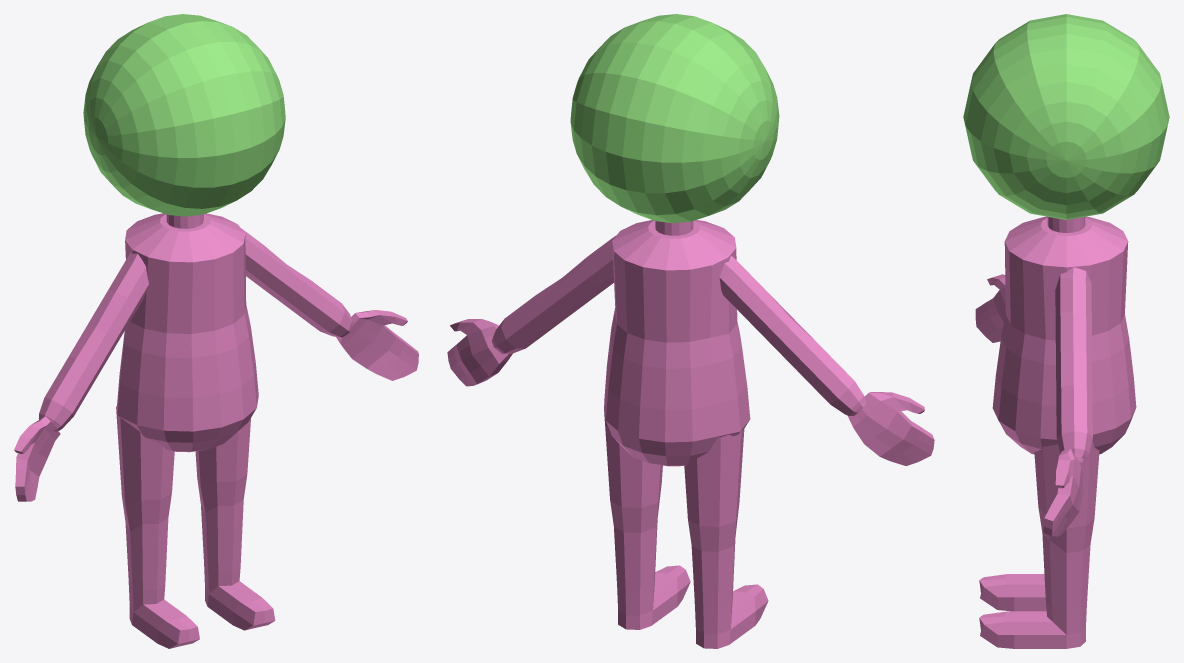
File: cabezoncosmicoconUV.fbx
3 views of the same model, side by side, from view 1: azimuth 30°, elevation 25°; view 2: azimuth 150°, elevation 25°; view 3: azimuth 270°, elevation 25° (orthographic). The views are drawn at different scales.
Parts seen in each view (by area): view 1: polySurface5, polySurface5.001; view 2: polySurface5, polySurface5.001; view 3: polySurface5, polySurface5.001.
Boxes of the visible parts, x1,y1,x2,y2 form: polySurface5: (14,213,418,648); polySurface5.001: (83,14,285,216); polySurface5: (447,220,934,648); polySurface5.001: (570,14,779,223); polySurface5: (975,216,1136,648); polySurface5.001: (963,14,1169,219).
Size of the model in its own units: 240 by 309 by 96.41.
